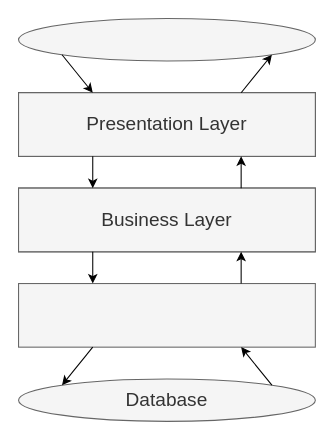
This 334x448 diagram has some shape labels left out. Each missing label, with the centre of its shape:
"Data Access Layer" belongs at point 166,314.
"User" belongs at point 166,39.
